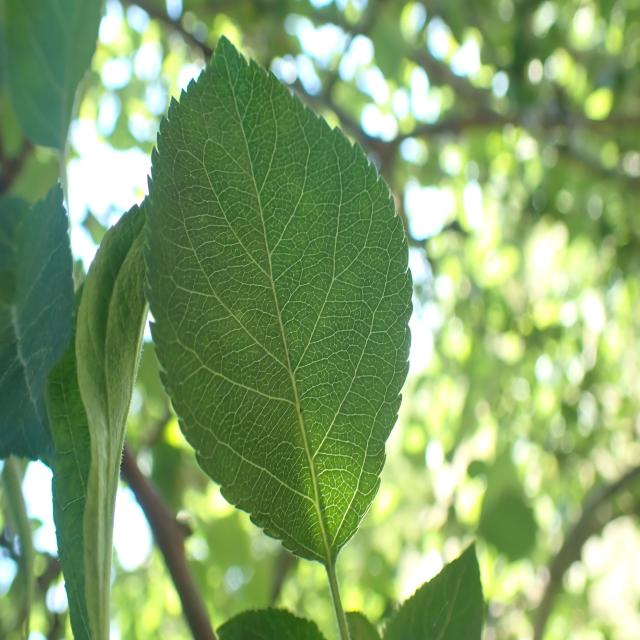healthy: (142, 34, 414, 562), (45, 198, 151, 640), (0, 176, 78, 469), (1, 1, 102, 152), (380, 539, 486, 640)
